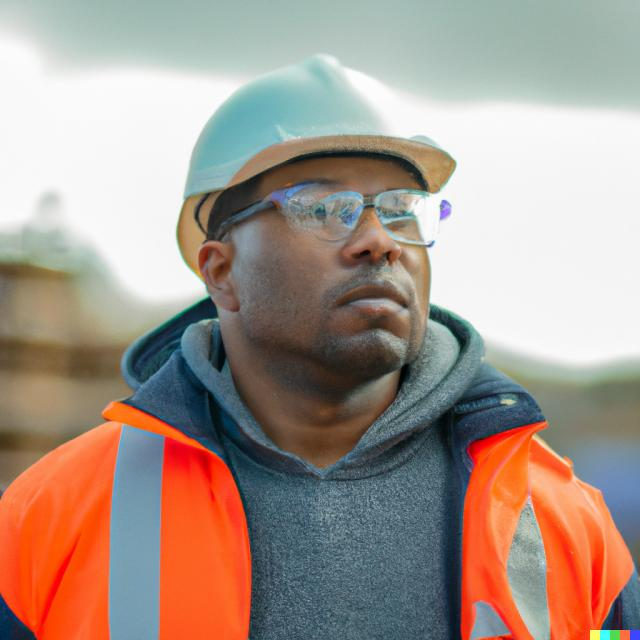Reflective-Jacket: (33, 344, 626, 635)
Safety-Helmet: (173, 54, 468, 210)
